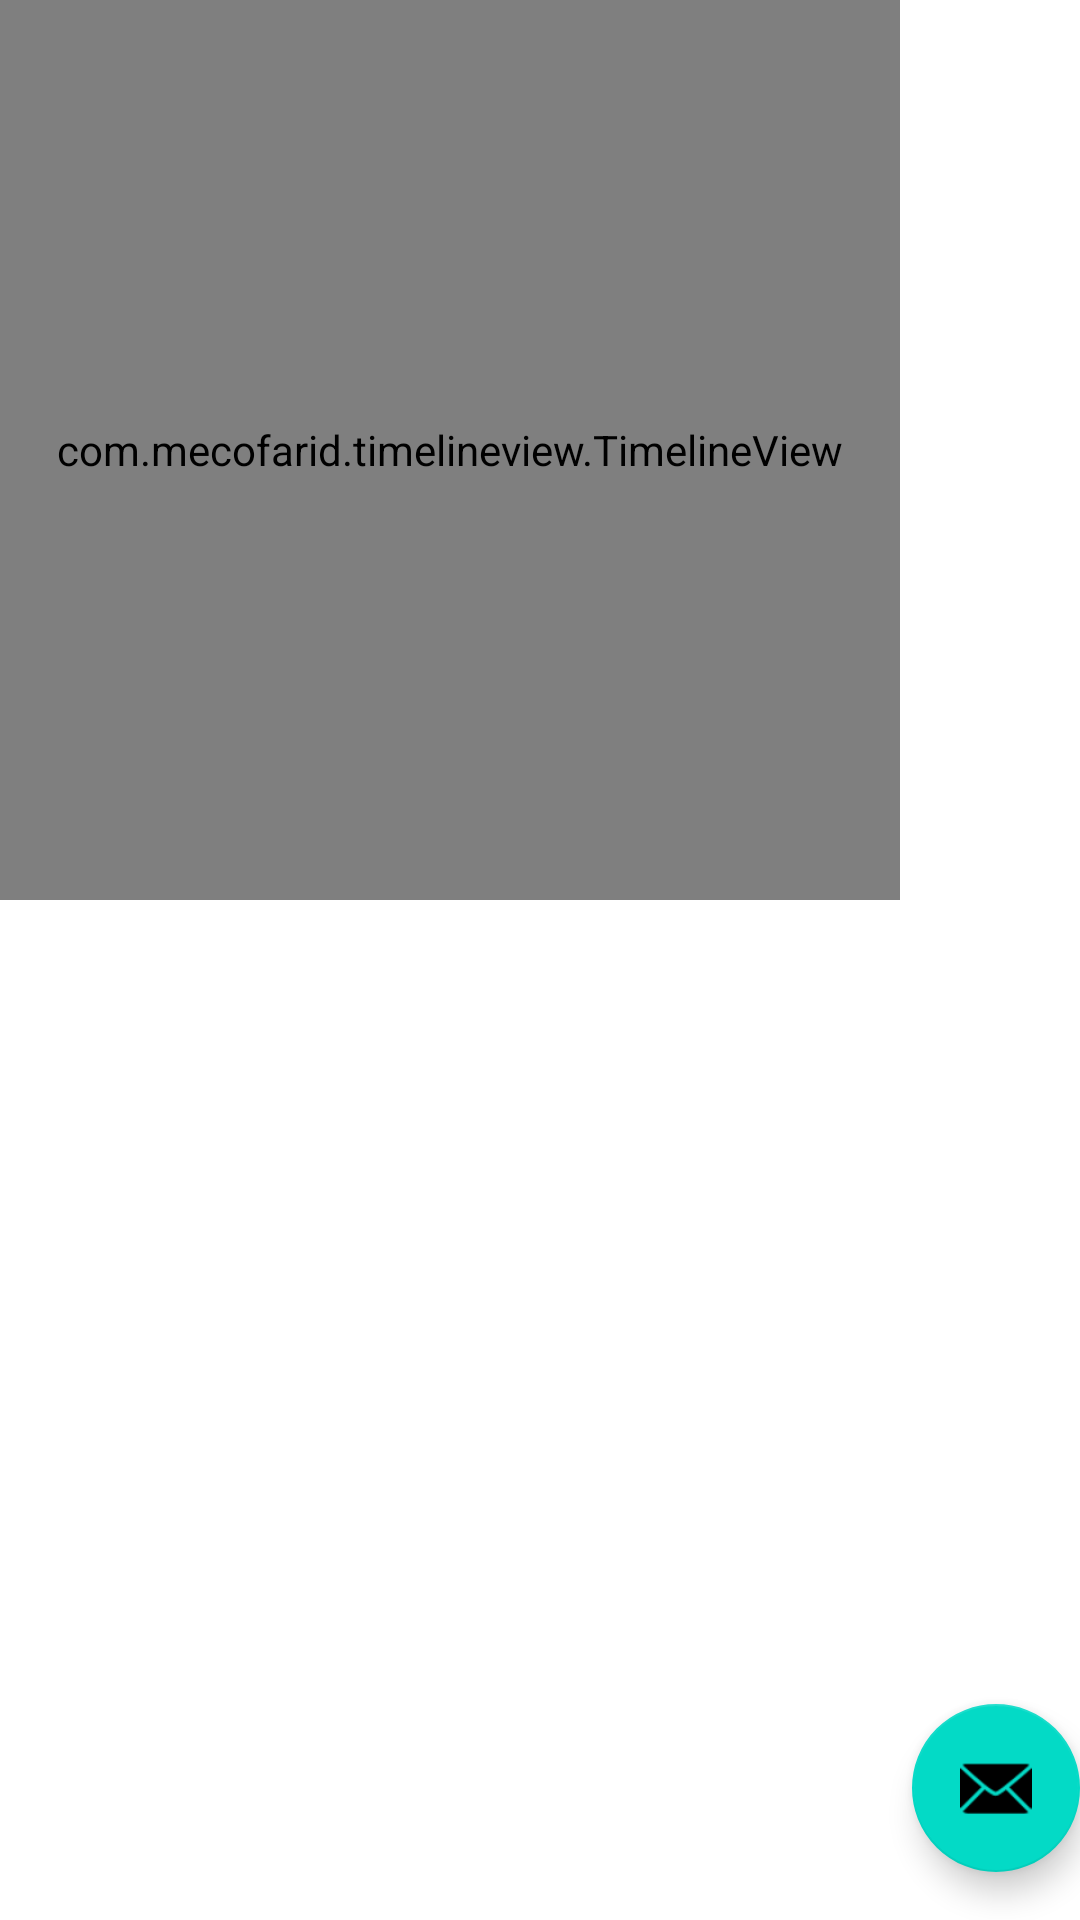

Screen size 1080 × 1920. Icon name, then its box in pixels as (x1, y1, x2, y2):
email: (912, 1704, 1080, 1872)
